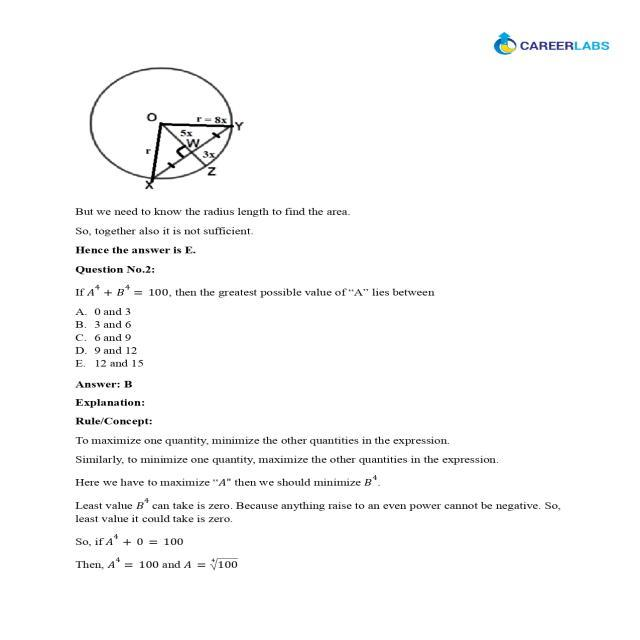Answer_Block: (66, 304, 577, 376)
Description: (66, 378, 577, 576), (66, 64, 577, 256)
Question_Answer_Block: (66, 258, 577, 376)
Question_Block: (66, 257, 577, 302)
Question_Paper_Area: (66, 64, 577, 576)
